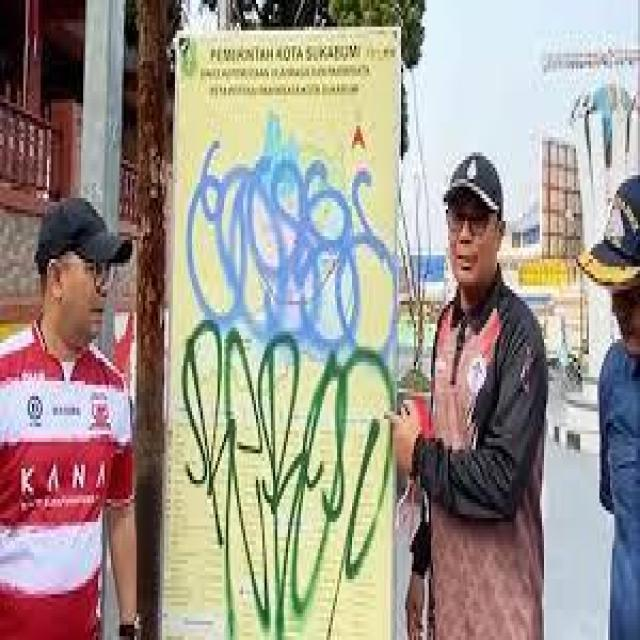nonspitting: (179, 320, 393, 640), (185, 137, 398, 360)
